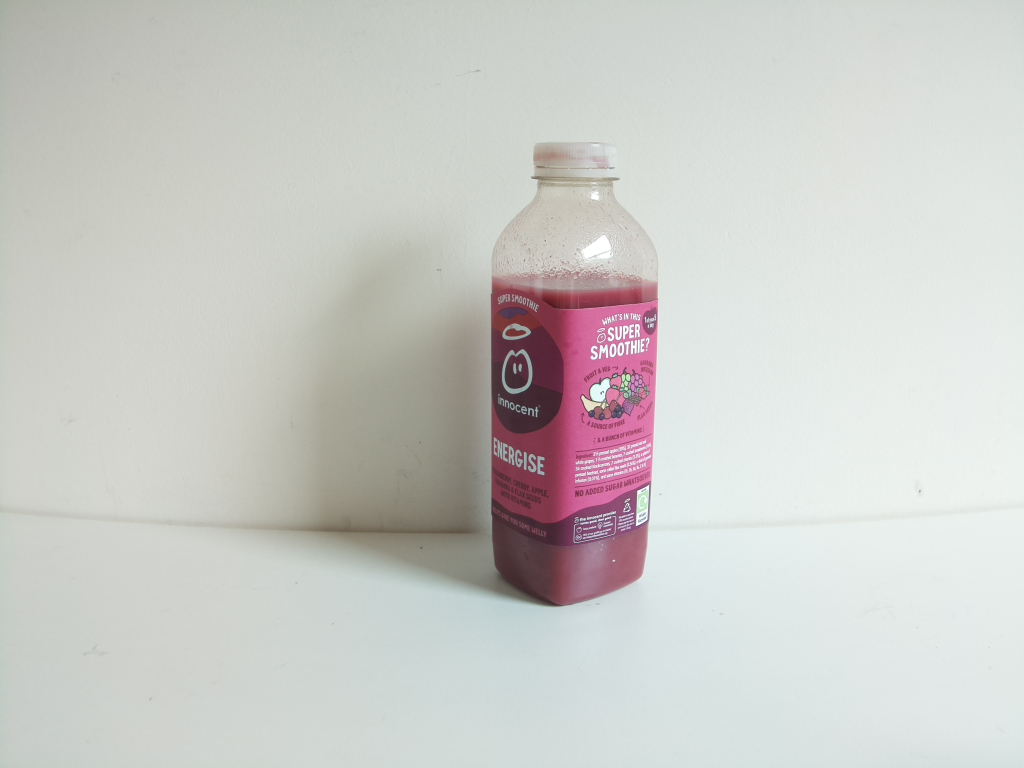juice: (482, 133, 668, 617)
